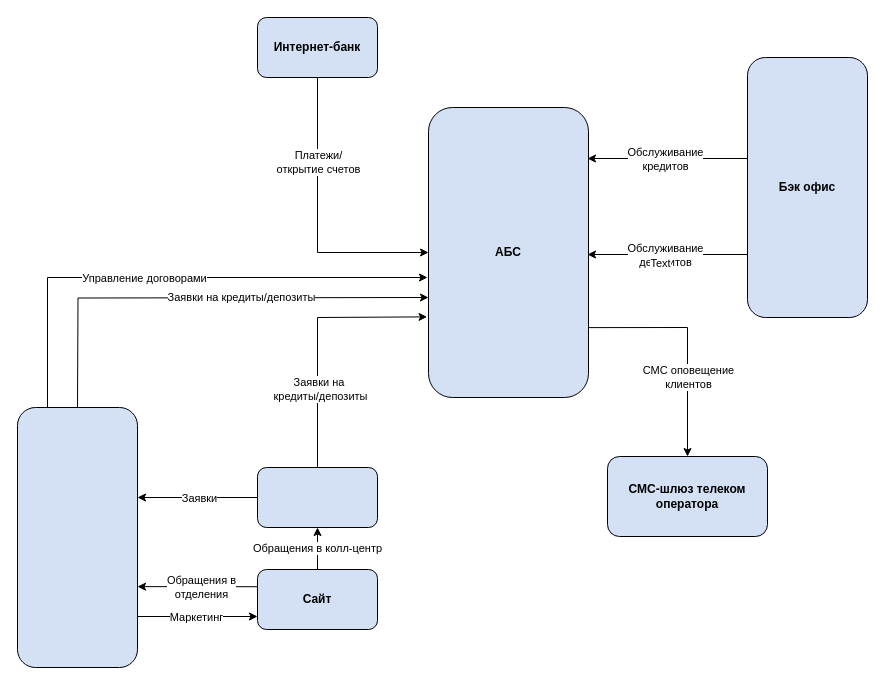
The diagram is 885 pixels wide and 685 high, and some of its shapes have lost their labels. Here are the shapes that lost their labels. From the top down, the centre of each, then its label:
At (317,497): "Система колл-центра".
At (77,537): "Фронт офис".
